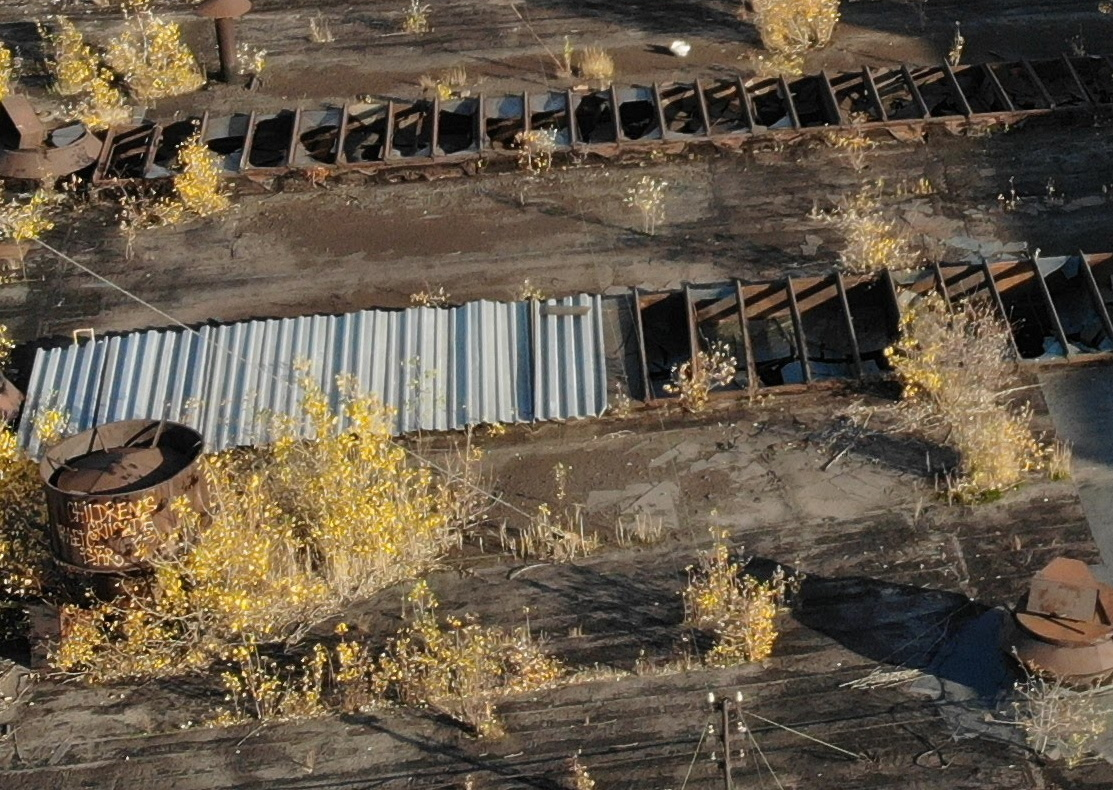tree: (224, 373, 474, 598), (890, 301, 1077, 508), (108, 476, 264, 649), (33, 13, 211, 132), (682, 521, 799, 684), (378, 583, 512, 723), (978, 649, 1101, 779), (9, 411, 92, 588), (816, 186, 936, 291), (159, 123, 252, 245), (228, 647, 380, 715), (53, 609, 173, 684), (743, 6, 847, 78), (672, 343, 745, 428), (615, 173, 678, 243), (506, 125, 566, 194), (561, 45, 622, 110), (8, 186, 68, 248)
